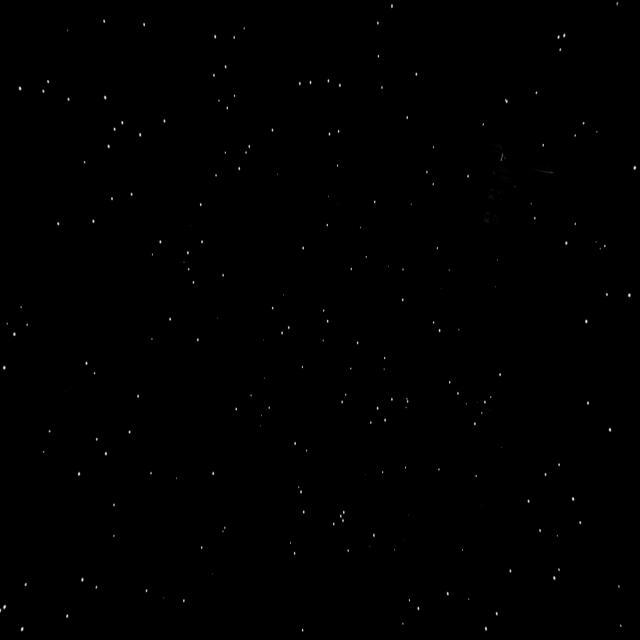medium_debris: (452, 130, 556, 243)
